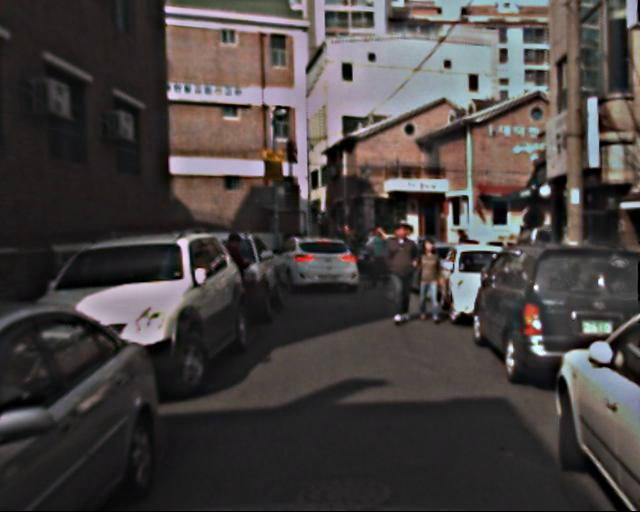person: (380, 224, 421, 325), (217, 234, 257, 332), (412, 240, 447, 326), (366, 228, 392, 291), (339, 221, 364, 250)
